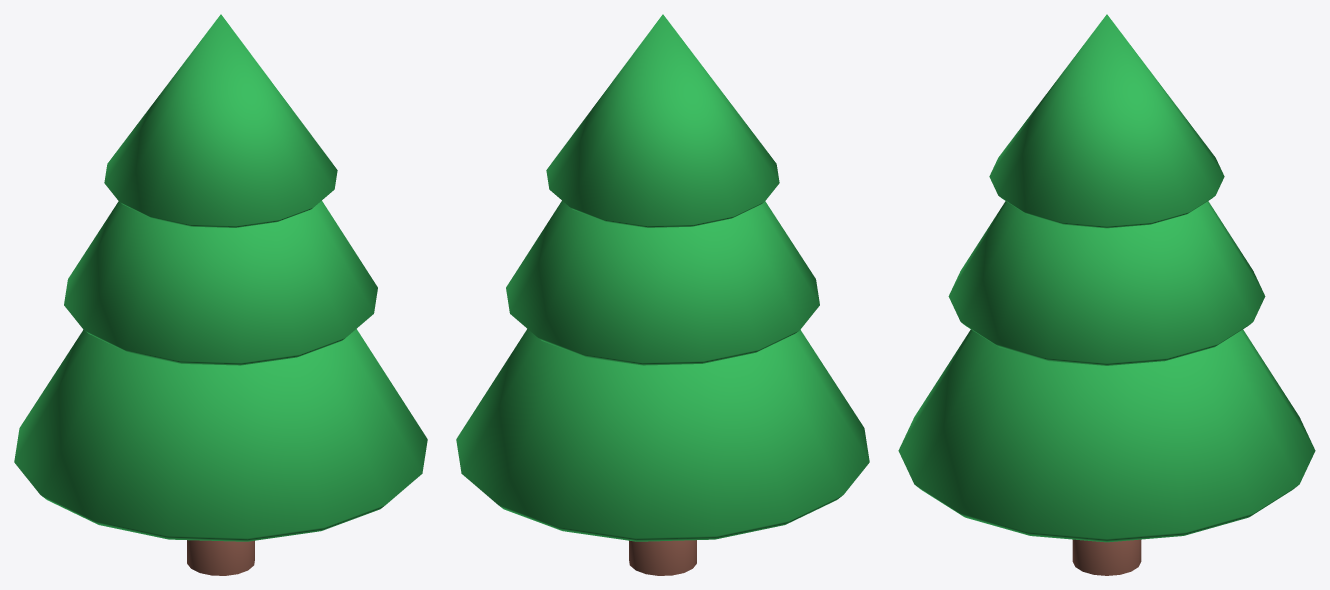
Rendered from minijamtree.fbx.
The picture shows the model from 3 angles, left to right: view 1: azimuth 30°, elevation 25°; view 2: azimuth 150°, elevation 25°; view 3: azimuth 270°, elevation 25°; orthographic projection.
Parts seen in each view (by area): view 1: Tree; view 2: Tree; view 3: Tree.
Boxes of the visible parts, x1,y1,x2,y2 form: Tree: [14, 14, 427, 575]; Tree: [456, 14, 869, 575]; Tree: [898, 14, 1315, 575].
Size of the model in its own units: 117 by 170 by 117.
